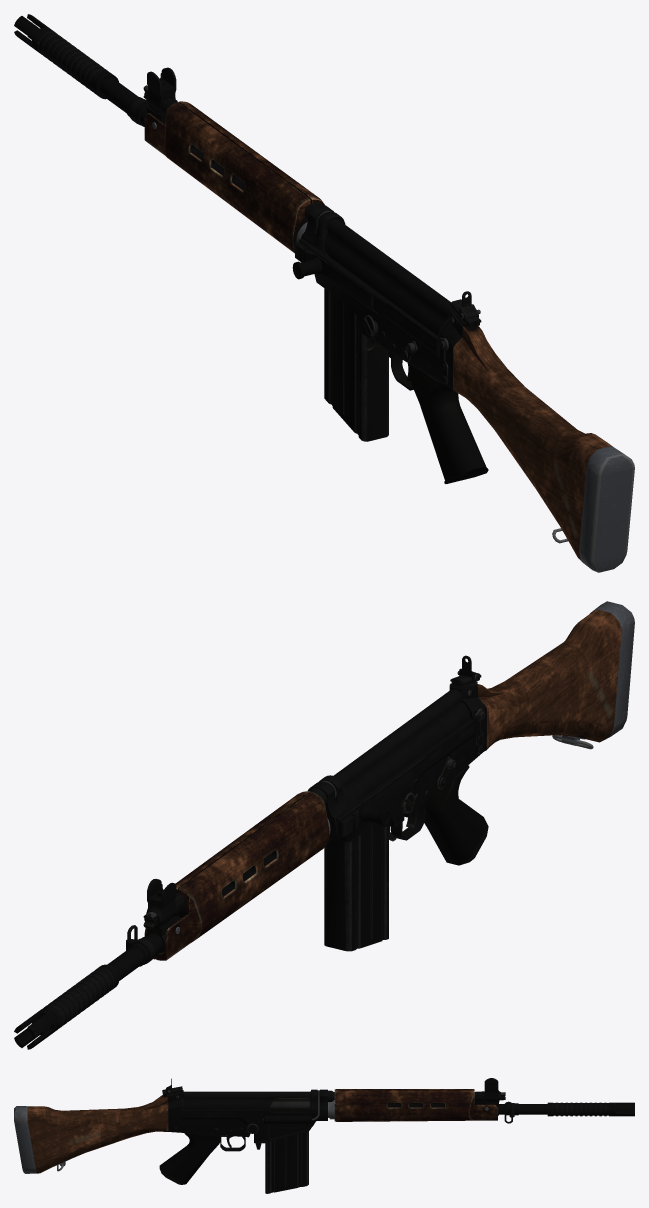
File: marksman_308.glb
3 views of the same model, one above another, from view 1: azimuth 30°, elevation 25°; view 2: azimuth 150°, elevation 25°; view 3: azimuth 270°, elevation 25° (orthographic). The views are drawn at different scales.
Visible parts, largest first — view 1: body, mag; view 2: body, mag; view 3: body, mag.
Boxes of the visible parts, <box> form: body: <box>14,14,634,572</box>; mag: <box>324,291,391,441</box>; body: <box>14,601,634,1049</box>; mag: <box>324,823,396,951</box>; body: <box>14,1078,634,1184</box>; mag: <box>255,1131,308,1193</box>.
Bounding box in the file's own units: 0.0874 × 0.2164 × 1.09.
Materials: 5 (5 with a texture image).
